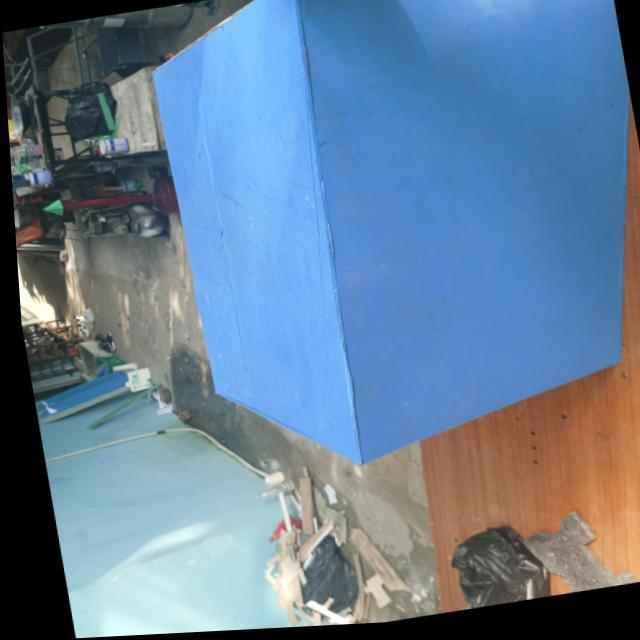blue_box: (116, 0, 640, 491)
